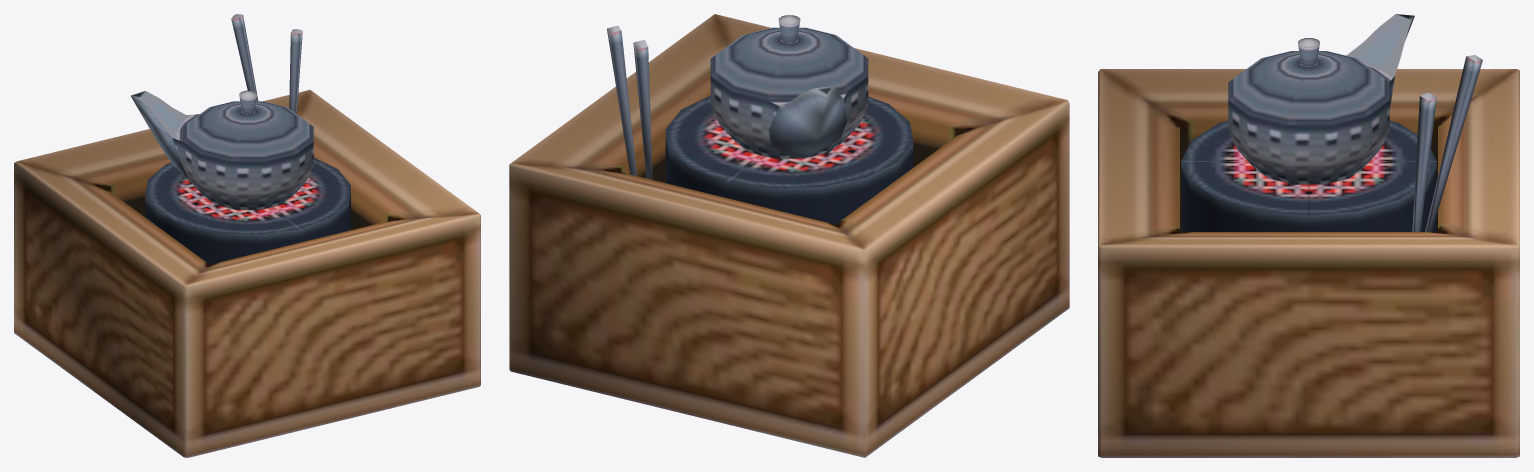
File: int_jpn_brazier.dae
3 renders of one model, left to right at view 1: azimuth 30°, elevation 25°; view 2: azimuth 150°, elevation 25°; view 3: azimuth 270°, elevation 25°, orthographic. The views are drawn at different scales.
Parts seen in each view (by area): view 1: int_jpn_brazier; view 2: int_jpn_brazier; view 3: int_jpn_brazier.
Boxes of the visible parts, <box> form: int_jpn_brazier: <box>14,14,480,457</box>; int_jpn_brazier: <box>509,14,1069,457</box>; int_jpn_brazier: <box>1098,14,1519,457</box>.
Size of the model in its own units: 28.03 by 25.48 by 28.03.
1 material, 1 textured.
